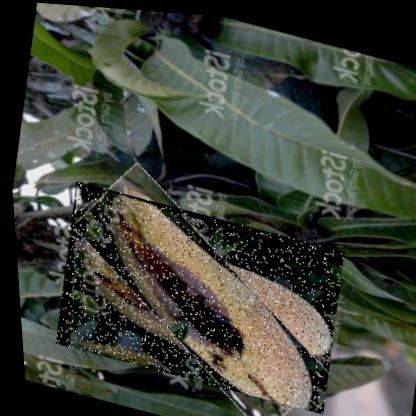mango_rotten: (42, 177, 350, 411)
